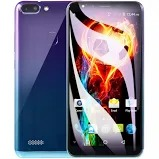bphone: (62, 1, 147, 157), (10, 1, 71, 155)
